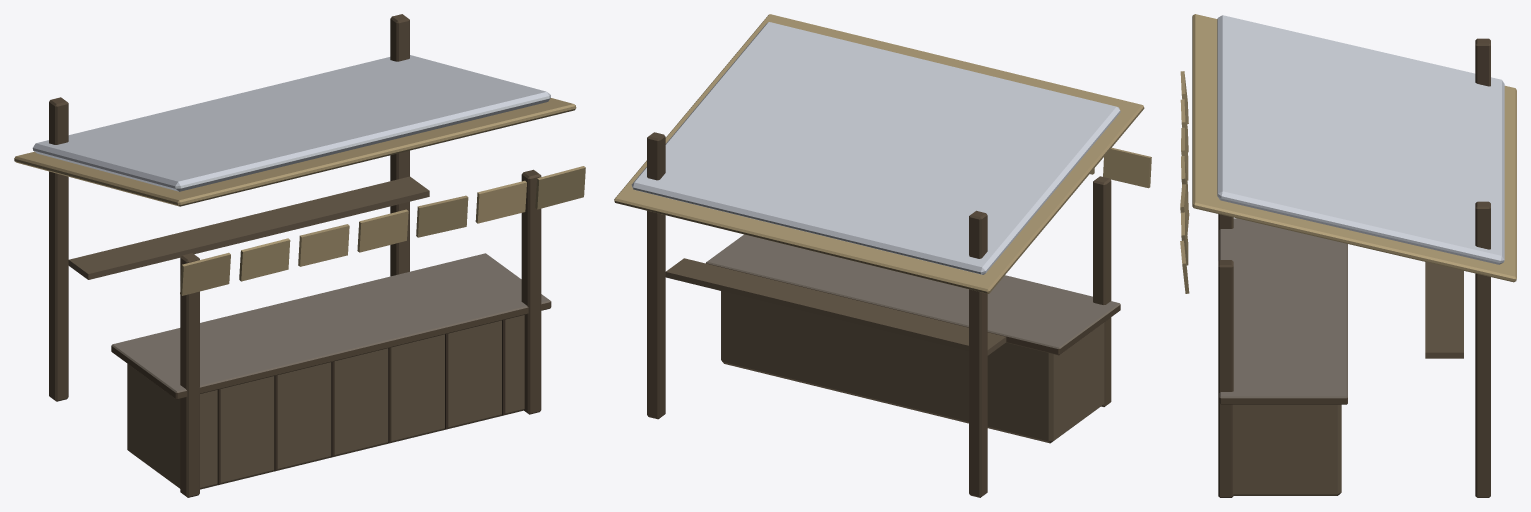
File: stall_oat.glb
The picture shows the model from 3 angles, left to right: view 1: azimuth 30°, elevation 25°; view 2: azimuth 150°, elevation 25°; view 3: azimuth 270°, elevation 25°; orthographic projection. The views are drawn at different scales.
Parts seen in each view (by area): view 1: stall_oat; view 2: stall_oat; view 3: stall_oat.
Part boxes in pixels (x1=…): stall_oat: x1=14, y1=14, x2=585, y2=497; stall_oat: x1=614, y1=14, x2=1151, y2=497; stall_oat: x1=1180, y1=14, x2=1516, y2=497.
Bounding box in the file's own units: 3.54 × 2.67 × 2.62.
